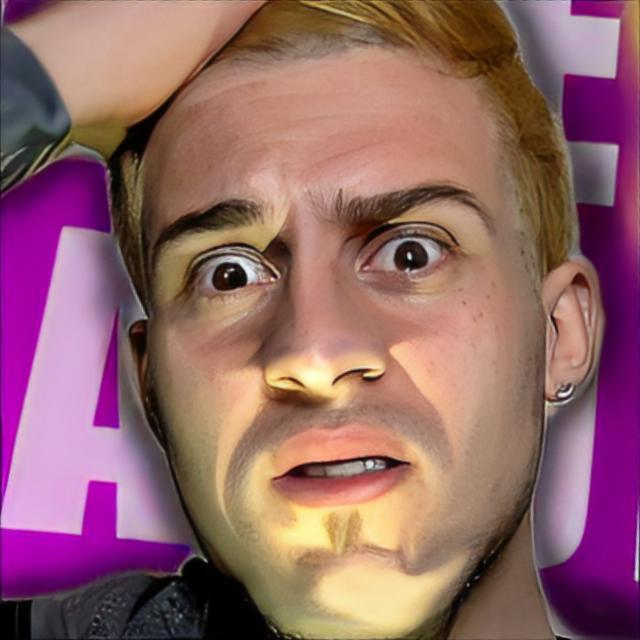fear: (136, 40, 544, 640)
